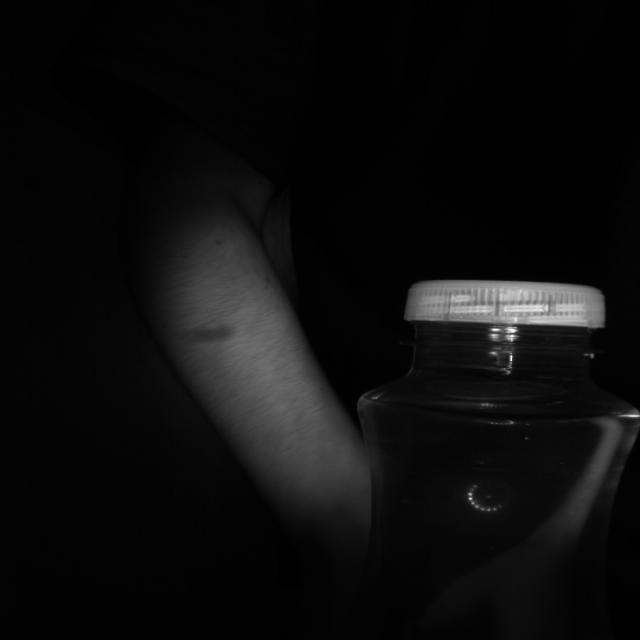Not Good: (404, 278, 608, 354)
